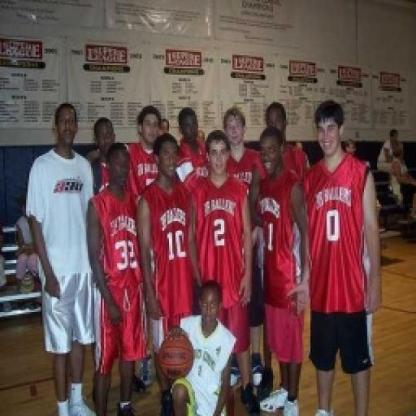basketball: (155, 331, 196, 381)
